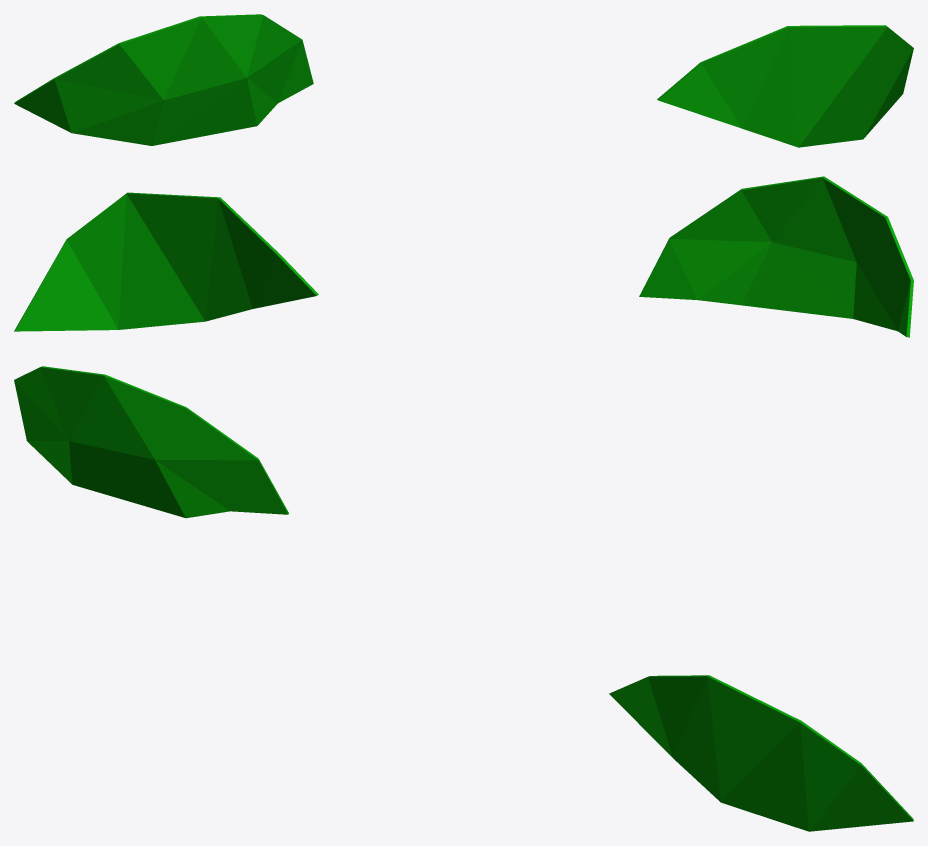
Rendered from eyes_green.obj.
The picture shows the model from 3 angles, top to bottom: view 1: azimuth 30°, elevation 25°; view 2: azimuth 150°, elevation 25°; view 3: azimuth 330°, elevation 25°; orthographic projection.
Visible parts, largest first — view 1: eyes_green_eyes_green_helios_20140908_Alexander_as_Helios_by_Cos; view 2: eyes_green_eyes_green_helios_20140908_Alexander_as_Helios_by_Cos; view 3: eyes_green_eyes_green_helios_20140908_Alexander_as_Helios_by_Cos.
Boxes of the visible parts, x1,y1,x2,y2 form: eyes_green_eyes_green_helios_20140908_Alexander_as_Helios_by_Cos: (14, 14, 913, 147); eyes_green_eyes_green_helios_20140908_Alexander_as_Helios_by_Cos: (14, 176, 913, 337); eyes_green_eyes_green_helios_20140908_Alexander_as_Helios_by_Cos: (14, 366, 913, 831).
Bounding box in the file's own units: 24.51 × 7.99 × 2.61.
